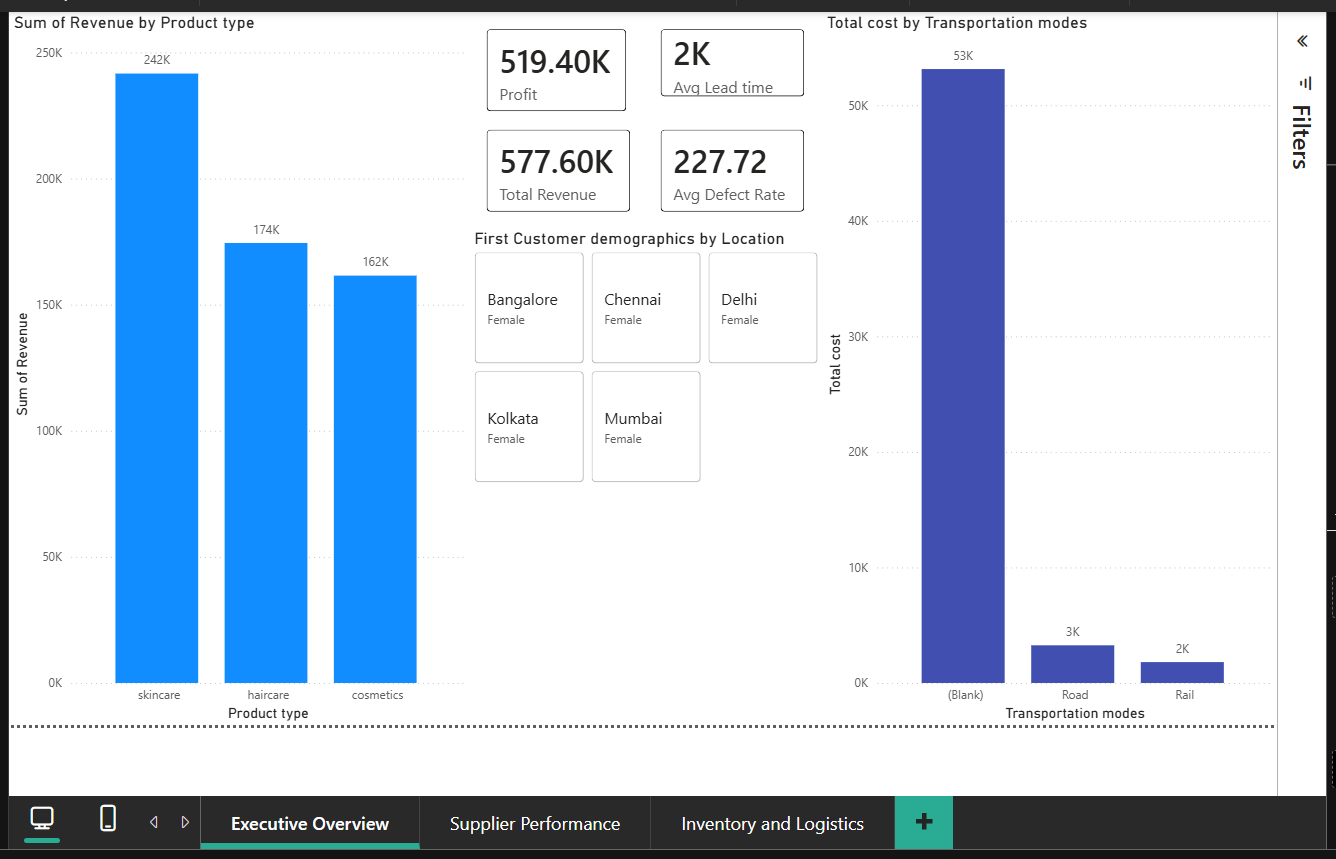

Layout of this report page (visuals, bound fields, positions):
{"tool":"powerbi","page":{"name":"Executive Overview","canvas":[1280,720],"ordinal":0},"visuals":[{"type":"cardVisual","fields":{"Data":["fact_supplychain.Avg Defect Rate"]},"box":[640.6,102,179.5,117.2],"z":0},{"type":"cardVisual","fields":{"Data":["fact_supplychain.Avg Lead time"]},"box":[640.6,0,179.5,102],"z":1000},{"type":"cardVisual","fields":{"Data":["fact_supplychain.Total Revenue"]},"box":[464.9,102,179.5,117.2],"z":2000},{"type":"cardVisual","fields":{"Data":["fact_supplychain.Profit"]},"box":[464.9,0,175.7,117.2],"z":3000},{"type":"clusteredColumnChart","fields":{"Y":["Sum(fact_supplychain.Revenue)"],"Category":["Dim_Product.Product type"]},"box":[0,0,464.9,720],"z":4000},{"type":"clusteredColumnChart","fields":{"Category":["Dim_logistics.Transportation modes"],"Y":["fact_supplychain.Total cost"]},"box":[820.2,0,459.2,720],"z":5000},{"type":"advancedSlicerVisual","fields":{"Label":["Min(fact_supplychain.Customer demographics)"],"Values":["fact_supplychain.Location"]},"box":[464.4,218.2,358.5,261.8],"z":5001}]}

Visuals, with their boxes on the page's 1280x720 design canvas (x1, y1, x2, y2). These are canvas units, not pixel positions in the 1336x859 screenshot, which may show the page scaled, cropped or inside an application window:
cardVisual - fact_supplychain.Avg Defect Rate: Rect(641, 102, 820, 219)
cardVisual - fact_supplychain.Avg Lead time: Rect(641, 0, 820, 102)
cardVisual - fact_supplychain.Total Revenue: Rect(465, 102, 644, 219)
cardVisual - fact_supplychain.Profit: Rect(465, 0, 641, 117)
clusteredColumnChart - Sum(fact_supplychain.Revenue) x Dim_Product.Product type: Rect(0, 0, 465, 720)
clusteredColumnChart - Dim_logistics.Transportation modes x fact_supplychain.Total cost: Rect(820, 0, 1279, 720)
advancedSlicerVisual - Min(fact_supplychain.Customer demographics) x fact_supplychain.Location: Rect(464, 218, 823, 480)
